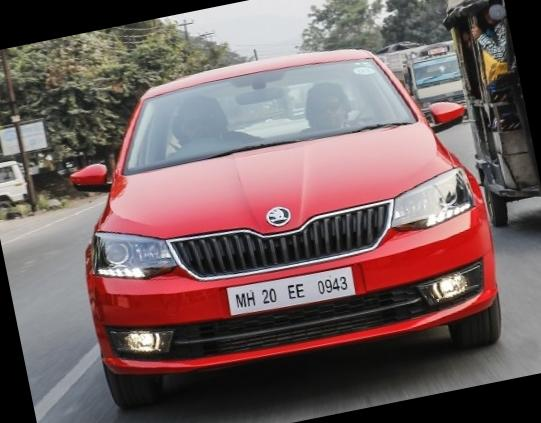plate: (219, 254, 371, 334)
